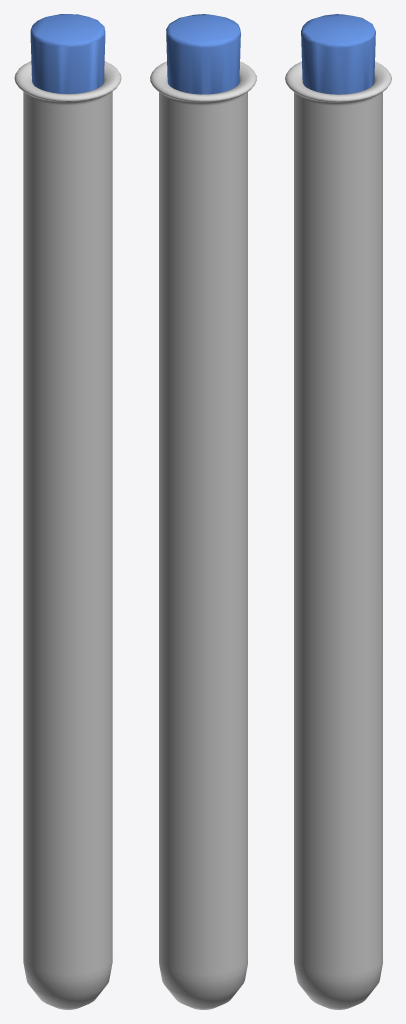
Rendered from TestTube50mlFilled.fbx.
3 renders of one model, left to right at view 1: azimuth 90°, elevation 25°; view 2: azimuth 210°, elevation 25°; view 3: azimuth 270°, elevation 25°, orthographic.
Visible parts, largest first — view 1: test_tube_50ml, test_tube01.001; view 2: test_tube_50ml, test_tube01.001; view 3: test_tube_50ml, test_tube01.001.
Part boxes in pixels (x1=…): test_tube_50ml: x1=14, y1=61, x2=121, y2=1009; test_tube01.001: x1=30, y1=14, x2=105, y2=93; test_tube_50ml: x1=150, y1=61, x2=256, y2=1009; test_tube01.001: x1=166, y1=14, x2=240, y2=94; test_tube_50ml: x1=285, y1=61, x2=391, y2=1009; test_tube01.001: x1=301, y1=14, x2=375, y2=94.
Bounding box in the file's own units: 2.6 × 26.19 × 2.6.
